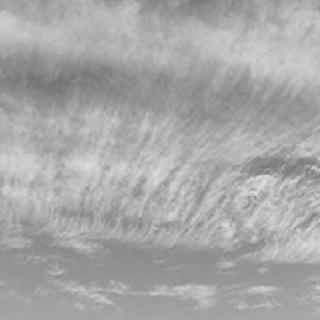Cirrostratus: (0, 1, 320, 312)
